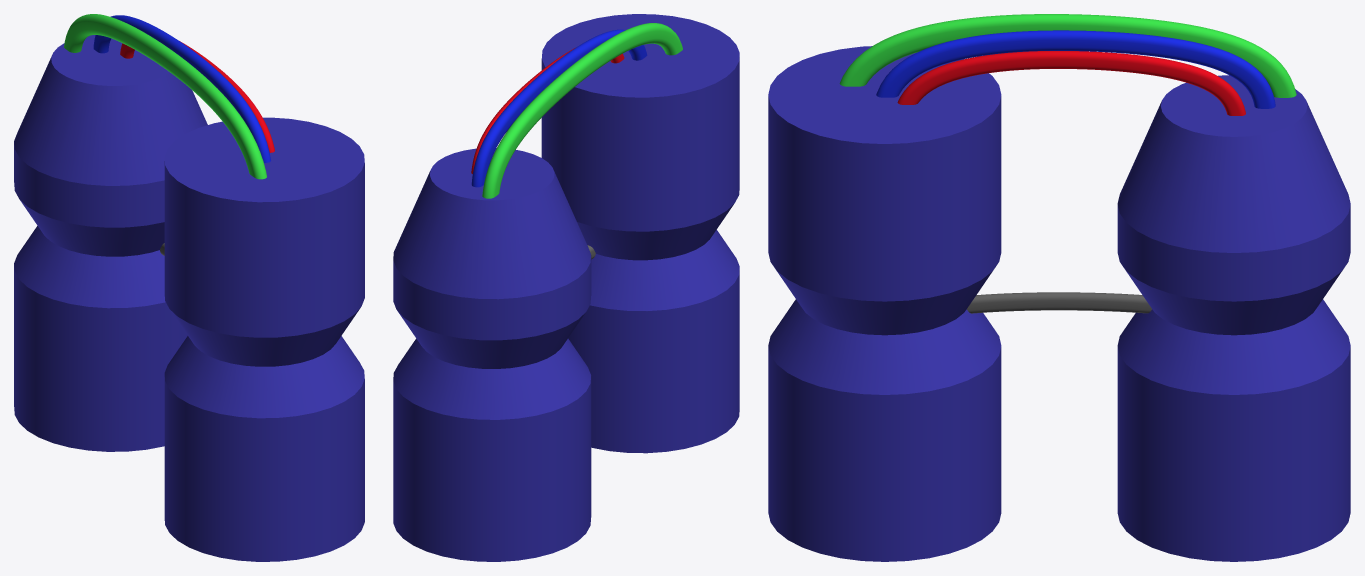
The model's file is Tanks.fbx.
3 views of the same model, side by side, from view 1: azimuth 30°, elevation 25°; view 2: azimuth 150°, elevation 25°; view 3: azimuth 270°, elevation 25° (orthographic). The views are drawn at different scales.
Parts seen in each view (by area): view 1: Cylinder, Cylinder.001, NurbsPath.001, NurbsPath, NurbsPath.002; view 2: Cylinder.001, Cylinder, NurbsPath.001, NurbsPath, NurbsPath.002; view 3: Cylinder, Cylinder.001, NurbsPath.001, NurbsPath, NurbsPath.002, NurbsPath.003.
Part boxes in pixels (left/top/right/bottom): Cylinder: left=164, top=117, right=364, bottom=561; Cylinder.001: left=14, top=35, right=207, bottom=451; NurbsPath.001: left=64, top=14, right=266, bottom=179; NurbsPath: left=93, top=15, right=270, bottom=162; NurbsPath.002: left=120, top=41, right=274, bottom=152; Cylinder.001: left=393, top=148, right=591, bottom=561; Cylinder: left=541, top=14, right=739, bottom=453; NurbsPath.001: left=482, top=23, right=682, bottom=198; NurbsPath: left=471, top=29, right=647, bottom=187; NurbsPath.002: left=471, top=48, right=624, bottom=173; Cylinder: left=768, top=46, right=1001, bottom=561; Cylinder.001: left=1117, top=75, right=1350, bottom=561; NurbsPath.001: left=839, top=14, right=1296, bottom=97; NurbsPath: left=876, top=30, right=1275, bottom=108; NurbsPath.002: left=897, top=51, right=1245, bottom=115; NurbsPath.003: left=967, top=292, right=1151, bottom=313.
Size of the model in its own units: 414 by 954 by 1035.
